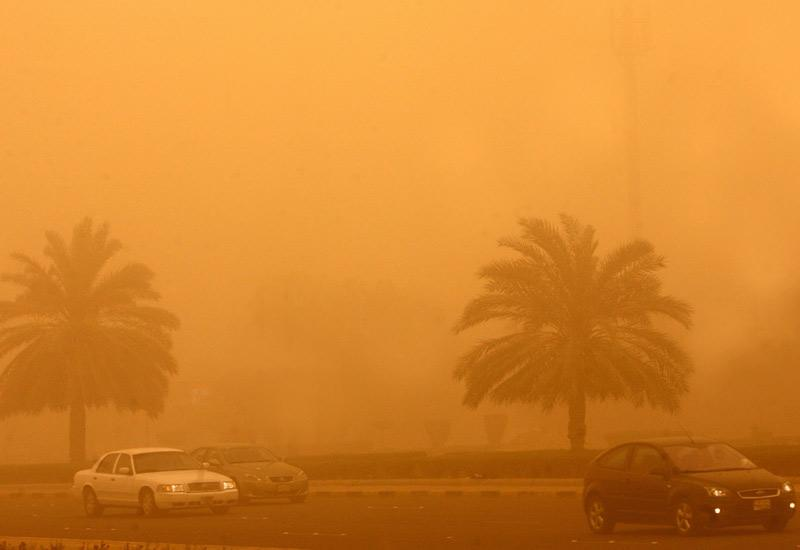car: (579, 435, 797, 535), (72, 447, 241, 519), (170, 444, 312, 507)
